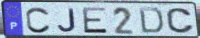2: (112, 6, 137, 35)
C: (165, 7, 196, 35), (25, 6, 52, 34)
D: (138, 6, 165, 35)
E: (81, 6, 110, 34)
J: (57, 8, 77, 33)
